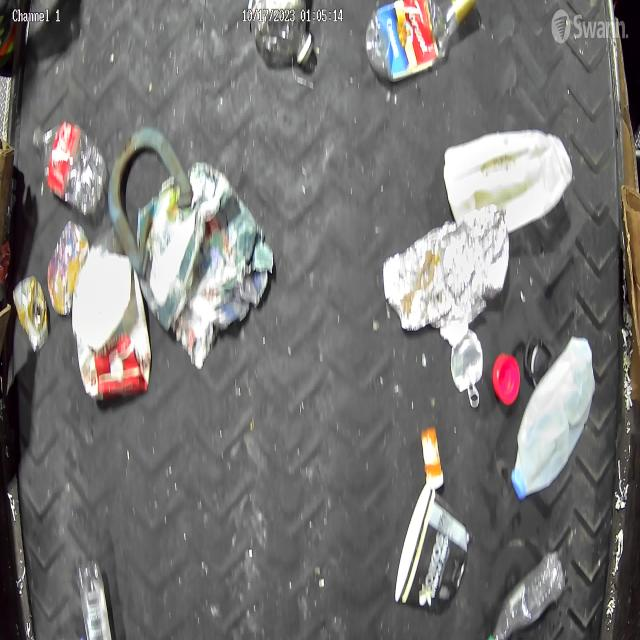milk-jug: (513, 334, 597, 515)
